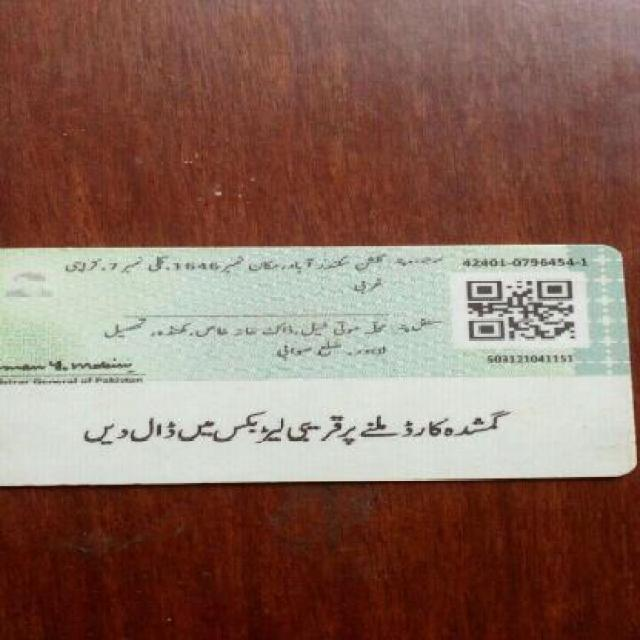Back: (5, 243, 632, 475)
